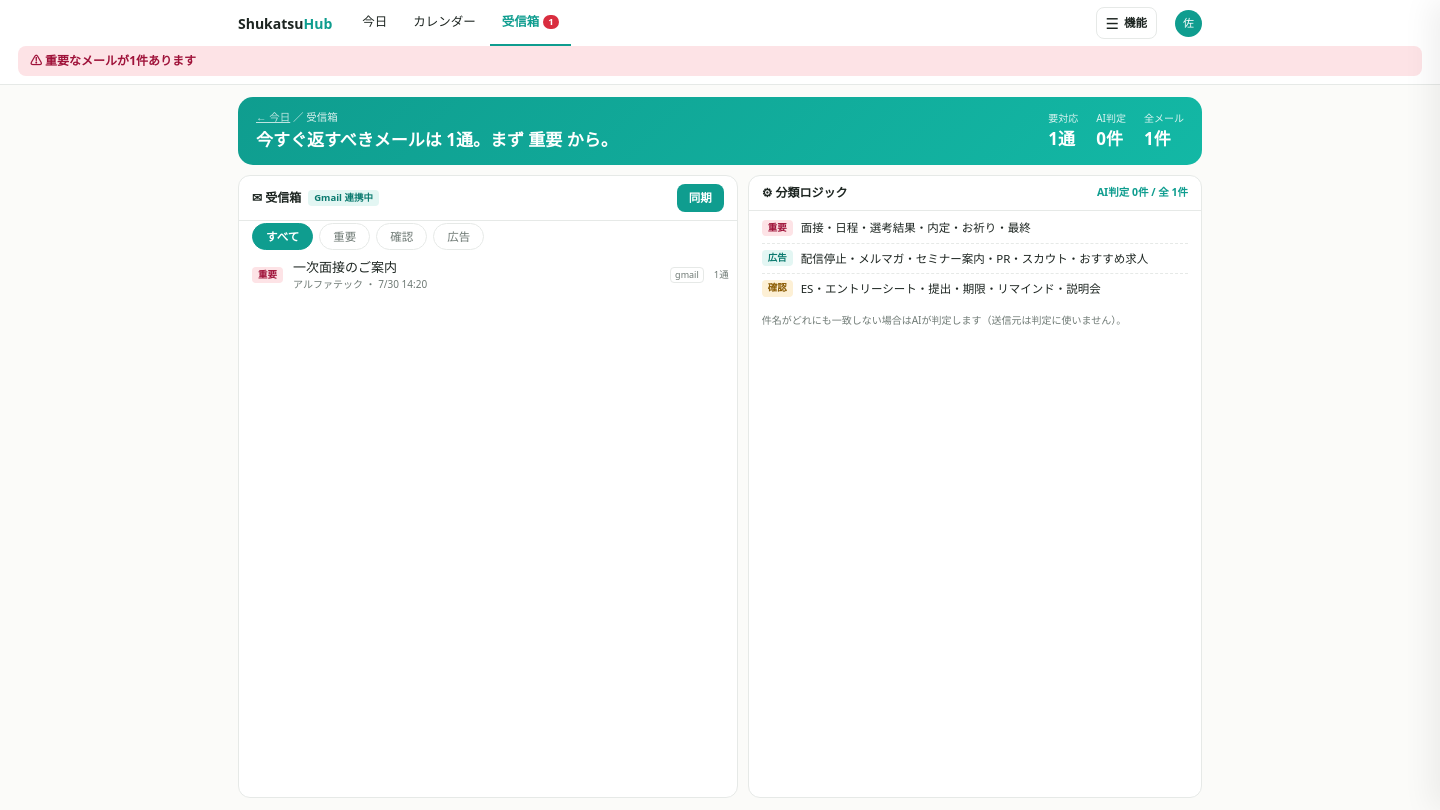
Test case: 同期 › Gmail から取り込めたら件数と AI判定数をトーストに出す
This screenshot has width=1440, height=810.
Click the button "同期" at [700, 198], box x1=677 y1=184 x2=724 y2=212
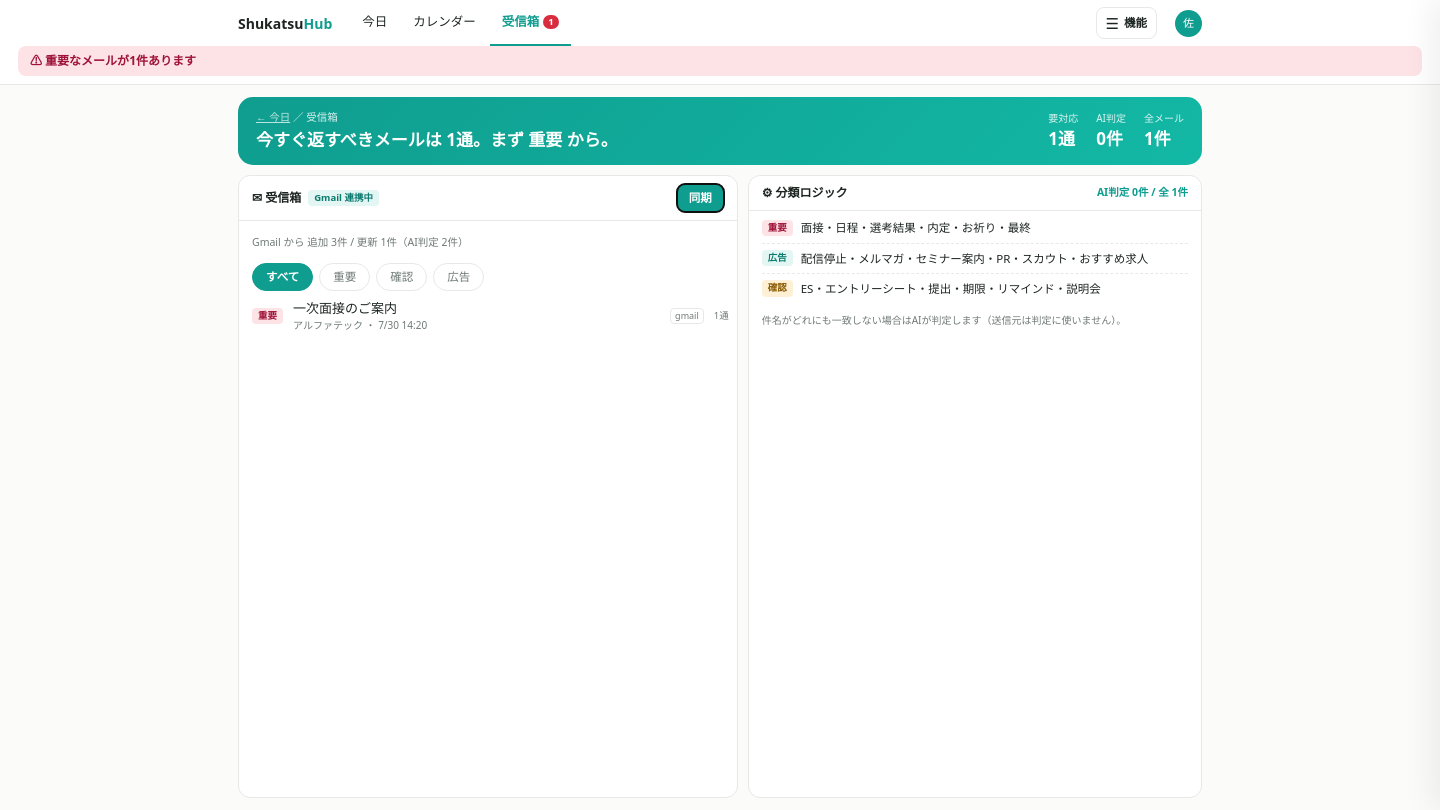
Expected: the text "Gmail から 追加 3件 / 更新 1件（AI判定 2件）" is shown, x1=252 y1=235 x2=469 y2=249
